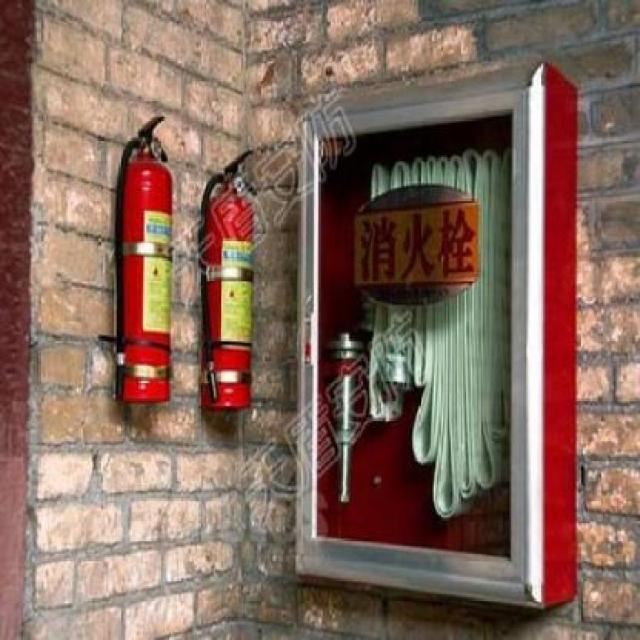firehydrant: (290, 51, 582, 616)
